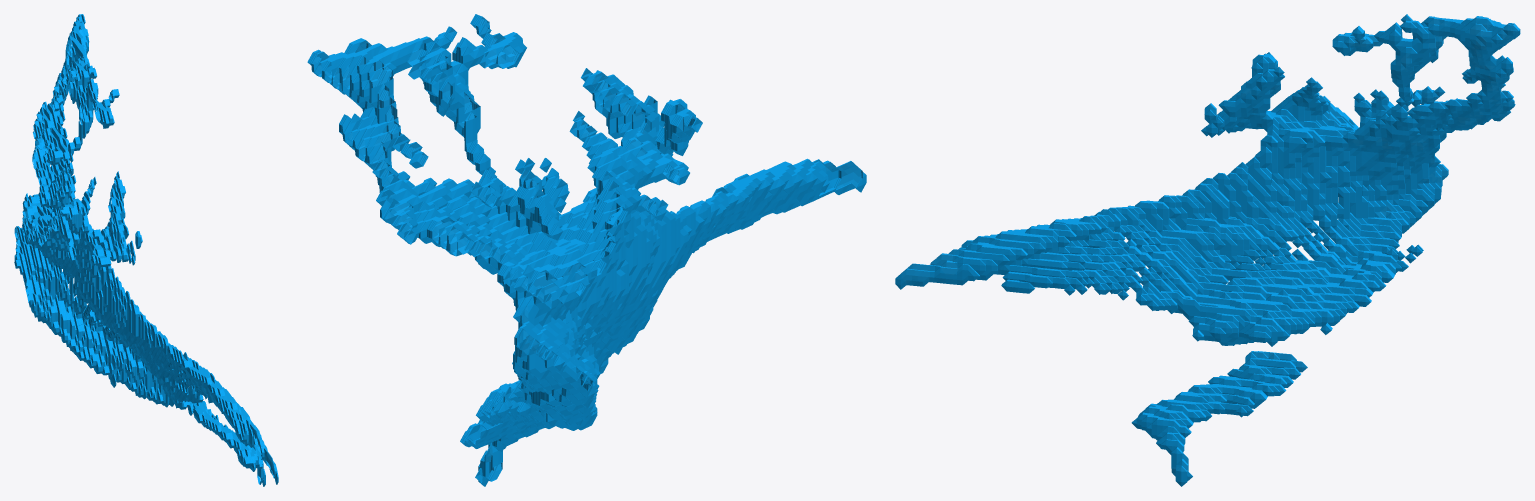
The model's file is SVV_BWM-VL02.gltf.
3 views of the same model, side by side, from view 1: azimuth 30°, elevation 25°; view 2: azimuth 150°, elevation 25°; view 3: azimuth 270°, elevation 25° (orthographic). The views are drawn at different scales.
Visible parts, largest first — view 1: BWM-VL02; view 2: BWM-VL02; view 3: BWM-VL02.
Part boxes in pixels (bbox=[...]): BWM-VL02: bbox=[14, 14, 278, 486]; BWM-VL02: bbox=[307, 14, 866, 486]; BWM-VL02: bbox=[895, 14, 1520, 486].
Bounding box in the file's own units: 26007 × 55400 × 71458.
